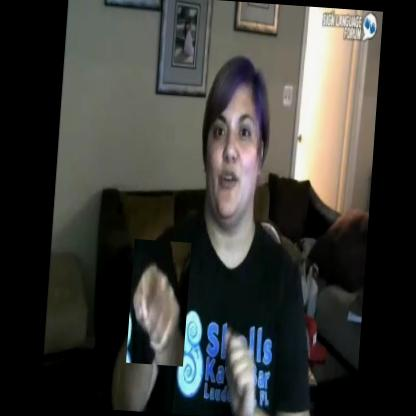NiceToMeetYou: (126, 239, 192, 366)
